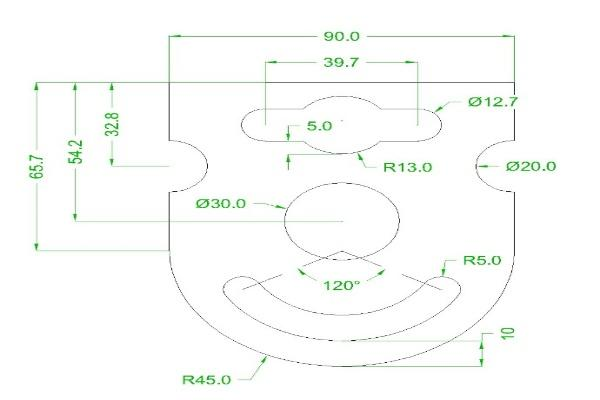dimensions: (378, 154, 438, 179), (498, 155, 562, 178), (172, 371, 233, 393), (457, 248, 509, 273), (18, 152, 52, 185), (58, 134, 90, 166), (322, 22, 364, 46), (192, 196, 251, 213), (466, 92, 522, 108), (96, 108, 124, 140), (298, 116, 340, 135), (323, 54, 364, 72), (496, 324, 519, 342)
